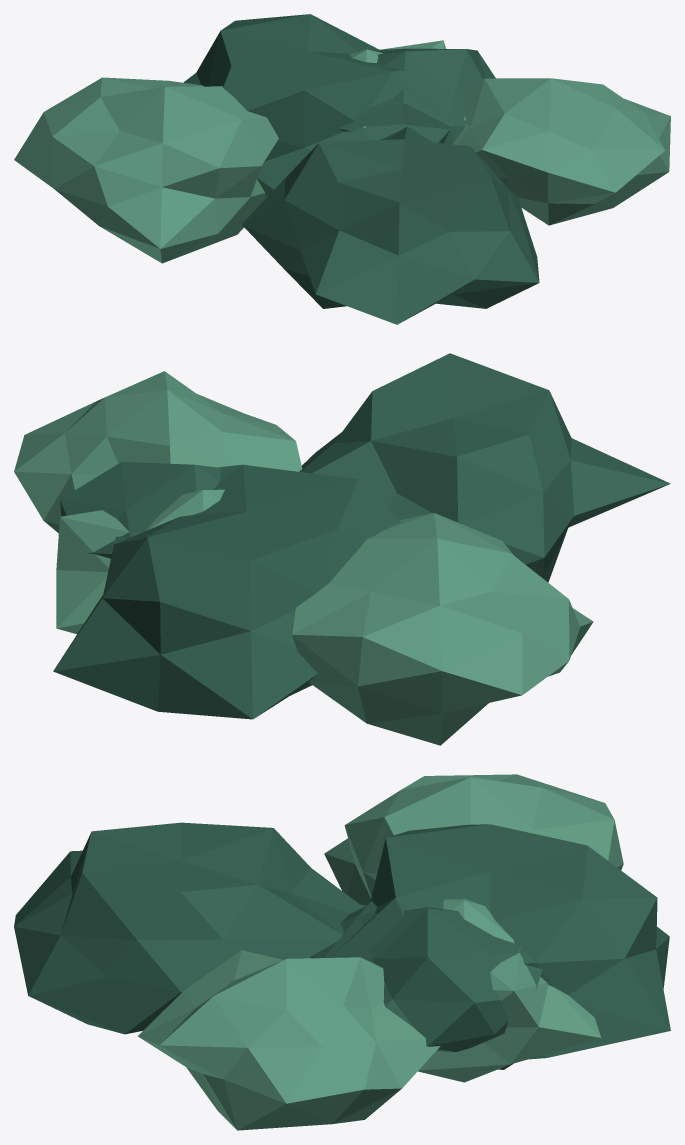
File: vge_item_oxyalgae_b.obj
3 views of the same model, one above another, from view 1: azimuth 30°, elevation 25°; view 2: azimuth 150°, elevation 25°; view 3: azimuth 270°, elevation 25° (orthographic). The views are drawn at different scales.
Visible parts, largest first — view 1: vge_item_oxyalgae_b_4, vge_item_oxyalgae_b_3, vge_item_oxyalgae_b_5, vge_item_oxyalgae_b_2, vge_item_oxyalgae_b_0, vge_item_oxyalgae_b_1; view 2: vge_item_oxyalgae_b_2, vge_item_oxyalgae_b_3, vge_item_oxyalgae_b_4, vge_item_oxyalgae_b_5, vge_item_oxyalgae_b_1, vge_item_oxyalgae_b_0; view 3: vge_item_oxyalgae_b_4, vge_item_oxyalgae_b_2, vge_item_oxyalgae_b_5, vge_item_oxyalgae_b_3, vge_item_oxyalgae_b_0, vge_item_oxyalgae_b_1.
Part boxes in pixels (bbox=[...]): vge_item_oxyalgae_b_4: bbox=[241, 127, 539, 324]; vge_item_oxyalgae_b_3: bbox=[14, 77, 278, 263]; vge_item_oxyalgae_b_5: bbox=[452, 78, 670, 225]; vge_item_oxyalgae_b_2: bbox=[184, 14, 455, 196]; vge_item_oxyalgae_b_0: bbox=[338, 48, 495, 144]; vge_item_oxyalgae_b_1: bbox=[349, 40, 465, 127]; vge_item_oxyalgae_b_2: bbox=[53, 464, 401, 719]; vge_item_oxyalgae_b_3: bbox=[291, 513, 593, 745]; vge_item_oxyalgae_b_4: bbox=[299, 353, 670, 582]; vge_item_oxyalgae_b_5: bbox=[14, 371, 302, 533]; vge_item_oxyalgae_b_1: bbox=[56, 489, 224, 634]; vge_item_oxyalgae_b_0: bbox=[60, 461, 221, 558]; vge_item_oxyalgae_b_4: bbox=[14, 822, 363, 1034]; vge_item_oxyalgae_b_2: bbox=[310, 824, 670, 1059]; vge_item_oxyalgae_b_5: bbox=[138, 950, 440, 1130]; vge_item_oxyalgae_b_3: bbox=[324, 774, 623, 906]; vge_item_oxyalgae_b_0: bbox=[324, 901, 542, 1069]; vge_item_oxyalgae_b_1: bbox=[418, 898, 600, 1082].
Bounding box in the file's own units: 0.6212 × 0.1531 × 0.5705.
